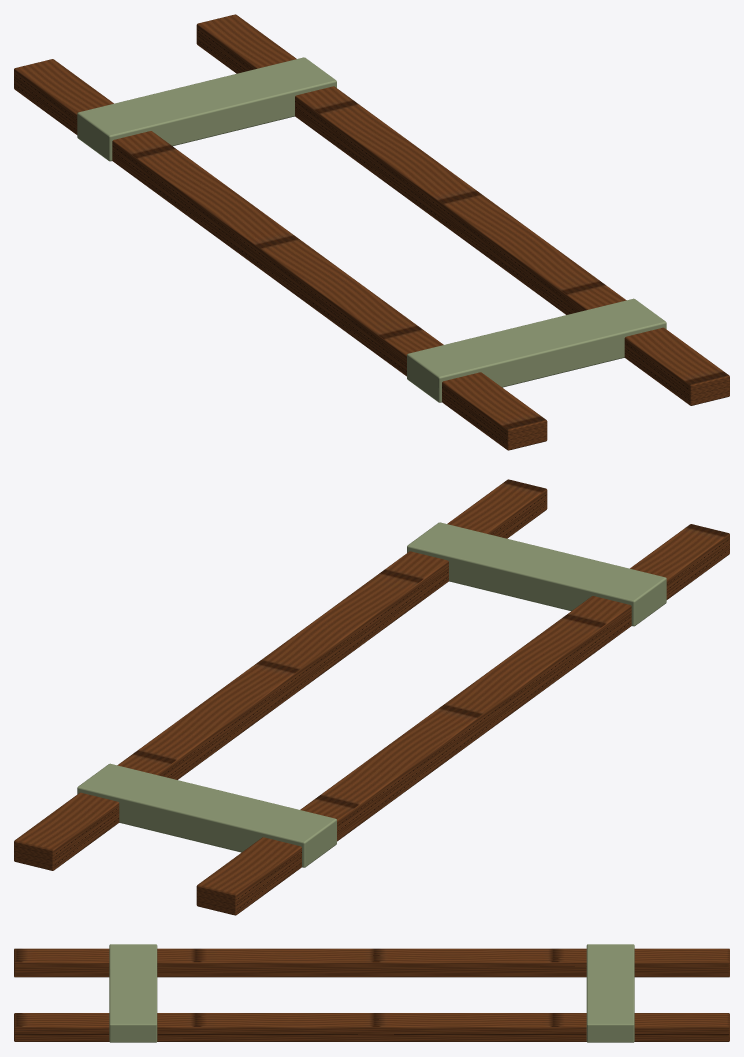
The model's file is field-medicine-and-recovery-leg-splint-46a3af36__3043.glb.
3 renders of one model, top to bottom at view 1: azimuth 30°, elevation 25°; view 2: azimuth 150°, elevation 25°; view 3: azimuth 270°, elevation 25°, orthographic. The views are drawn at different scales.
Visible parts, largest first — view 1: leg-splint; view 2: leg-splint; view 3: leg-splint.
Part boxes in pixels (bbox=[...]): leg-splint: bbox=[14, 14, 729, 450]; leg-splint: bbox=[14, 479, 729, 915]; leg-splint: bbox=[14, 944, 729, 1042].
Bounding box in the file's own units: 0.2 × 0.022 × 0.75.
Materials: 2 (1 with a texture image).
